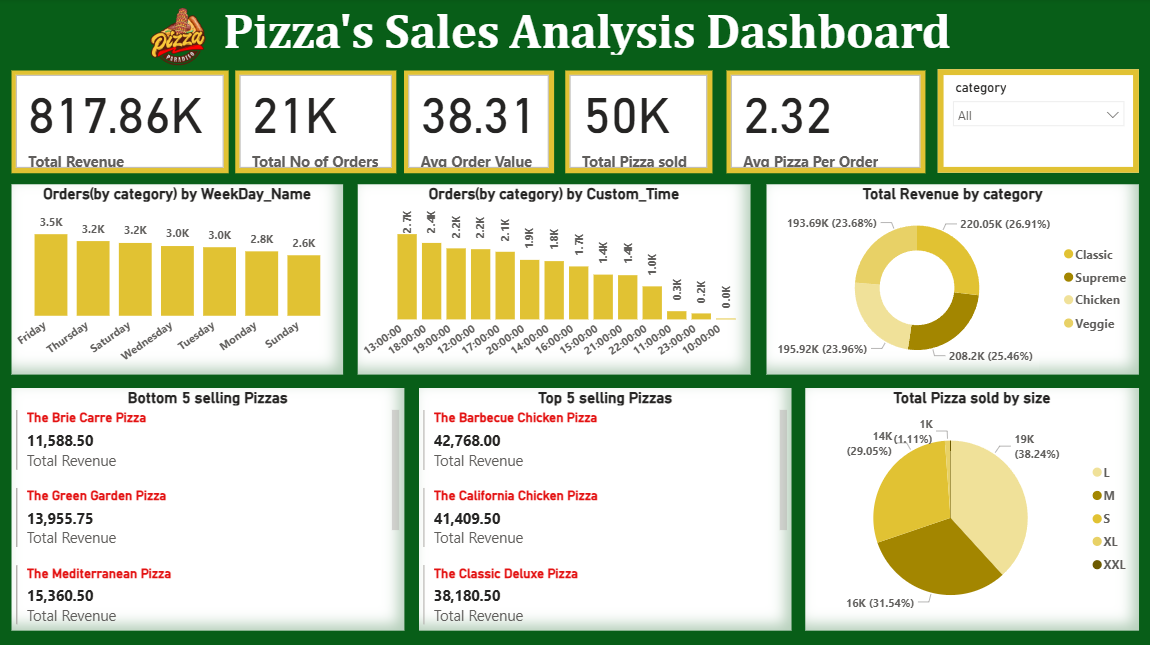

The dashboard page shown, as its layout file describes it:
{"tool":"powerbi","page":{"name":"Page 1","canvas":[1280,720],"ordinal":0},"visuals":[{"type":"cardVisual","fields":{"Data":["Measures (2).Total Revenue"]},"box":[13.7,79.6,238.8,112.5],"z":0},{"type":"cardVisual","fields":{"Data":["Measures (2).Total No of Orders"]},"box":[259.3,79.6,177,112.5],"z":1000},{"type":"cardVisual","fields":{"Data":["Measures (2).Avg Order Value"]},"box":[444.6,79.6,164.7,112.5],"z":2000},{"type":"cardVisual","fields":{"Data":["Measures (2).Total Pizza sold"]},"box":[621.6,79.6,161.9,112.5],"z":3000},{"type":"cardVisual","fields":{"Data":["Measures (2).Avg Pizza Per Order"]},"box":[798.6,79.6,218.2,112.5],"z":4000},{"type":"textbox","box":[241.5,8.2,1038.8,67.2],"z":5000},{"type":"image","box":[133.1,4.1,126.2,75.5],"z":6000},{"type":"columnChart","fields":{"Category":["pizzahut orders.WeekDay_Name"],"Y":["Measures (2).Orders(by category)"]},"box":[13.7,204.5,363.6,208.6],"z":7000},{"type":"columnChart","fields":{"Category":["pizzahut orders.Custom_Time"],"Y":["Measures (2).Orders(by category)"]},"box":[393.8,204.5,430.9,208.6],"z":8000},{"type":"donutChart","fields":{"Category":["pizzahut pizza_types.category"],"Y":["Measures (2).Total Revenue"]},"box":[842.5,204.5,408.9,208.6],"z":9000},{"type":"multiRowCard","title":"Bottom 5 selling Pizzas","fields":{"Values":["pizzahut pizza_types.name","Measures (2).Total Revenue"]},"box":[13.7,428.1,430.9,266.2],"z":10000},{"type":"multiRowCard","title":"Top 5 selling Pizzas","fields":{"Values":["pizzahut pizza_types.name","Measures (2).Total Revenue"]},"box":[461.1,428.1,408.9,266.2],"z":11000},{"type":"pieChart","fields":{"Category":["pizzahut pizzas.size"],"Y":["Measures (2).Total Pizza sold"]},"box":[885.1,428.1,366.4,266.2],"z":12000},{"type":"slicer","fields":{"Values":["pizzahut pizza_types.category"]},"box":[1030.5,78.2,220.9,113.9],"z":13000}]}

Visuals, with their boxes in screenshot pixels (x1, y1, x2, y2), scaled from the page's 1280x720 canvas onto the 1150x645 screenshot:
cardVisual - Measures (2).Total Revenue: locate(12, 71, 227, 172)
cardVisual - Measures (2).Total No of Orders: locate(233, 71, 392, 172)
cardVisual - Measures (2).Avg Order Value: locate(399, 71, 547, 172)
cardVisual - Measures (2).Total Pizza sold: locate(558, 71, 704, 172)
cardVisual - Measures (2).Avg Pizza Per Order: locate(717, 71, 914, 172)
textbox: locate(217, 7, 1149, 68)
image: locate(120, 4, 233, 71)
columnChart - pizzahut orders.WeekDay_Name x Measures (2).Orders(by category): locate(12, 183, 339, 370)
columnChart - pizzahut orders.Custom_Time x Measures (2).Orders(by category): locate(354, 183, 741, 370)
donutChart - pizzahut pizza_types.category x Measures (2).Total Revenue: locate(757, 183, 1124, 370)
"Bottom 5 selling Pizzas" multiRowCard: locate(12, 384, 399, 622)
"Top 5 selling Pizzas" multiRowCard: locate(414, 384, 782, 622)
pieChart - pizzahut pizzas.size x Measures (2).Total Pizza sold: locate(795, 384, 1124, 622)
slicer - pizzahut pizza_types.category: locate(926, 70, 1124, 172)
